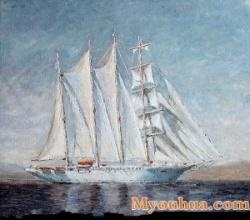fanchuan: (26, 39, 220, 184)
